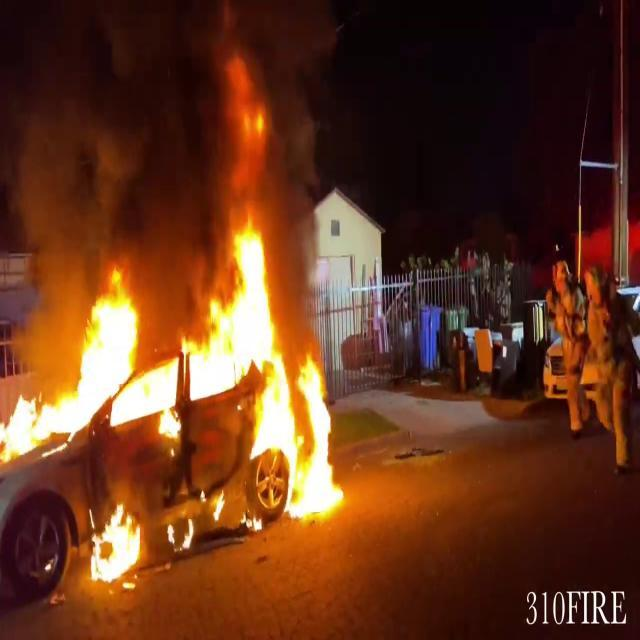Fire: (0, 133, 343, 523), (87, 500, 151, 588)
Smoke: (0, 0, 218, 308)
